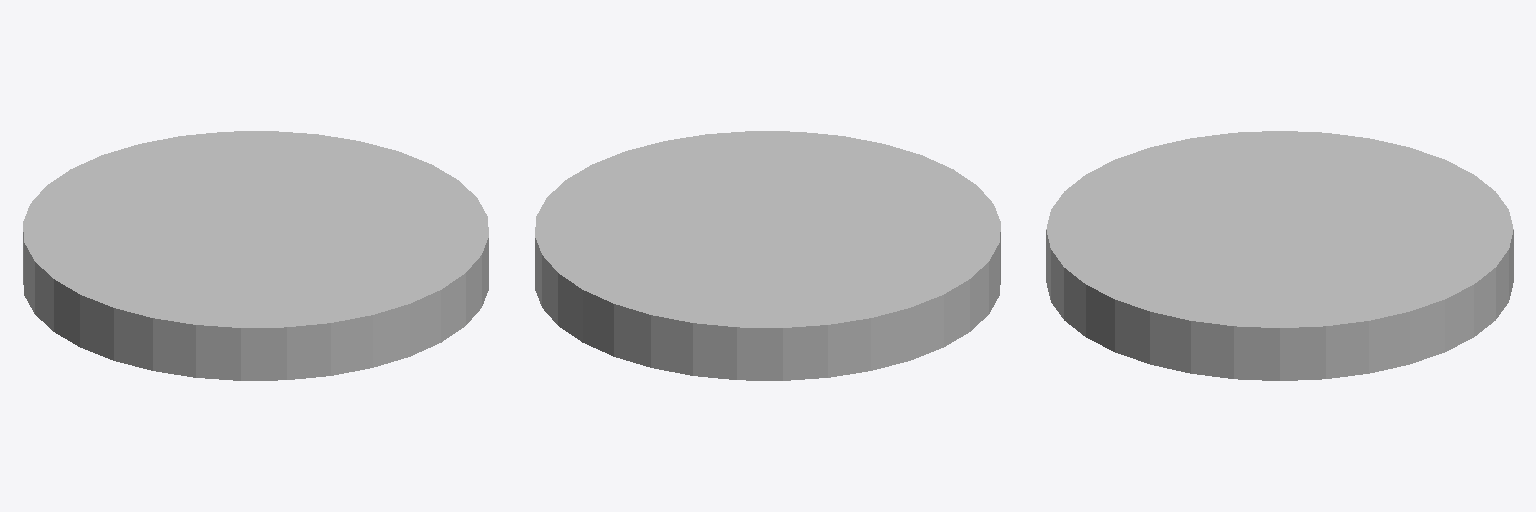
The model's file is GreenWallBot.obj.
The picture shows the model from 3 angles: view 1: azimuth 30°, elevation 25°; view 2: azimuth 150°, elevation 25°; view 3: azimuth 270°, elevation 25°; orthographic projection.
Visible parts, largest first — view 1: Cube; view 2: Cube; view 3: Cube.
Part boxes in pixels (x1,y1,x2,y2): Cube: (23,131,488,380); Cube: (535,131,1000,380); Cube: (1046,131,1513,380).
Bounding box in the file's own units: 45 × 5.62 × 45.